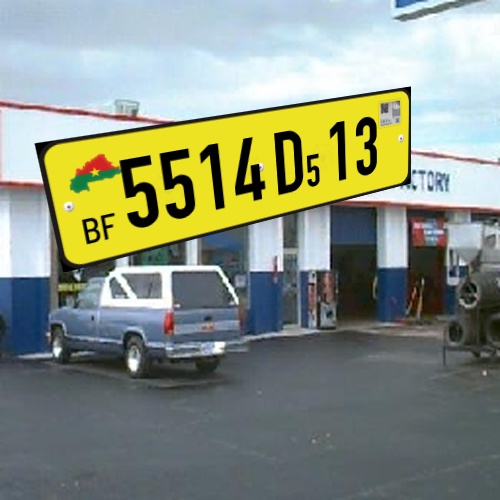plate: (17, 74, 425, 275)
